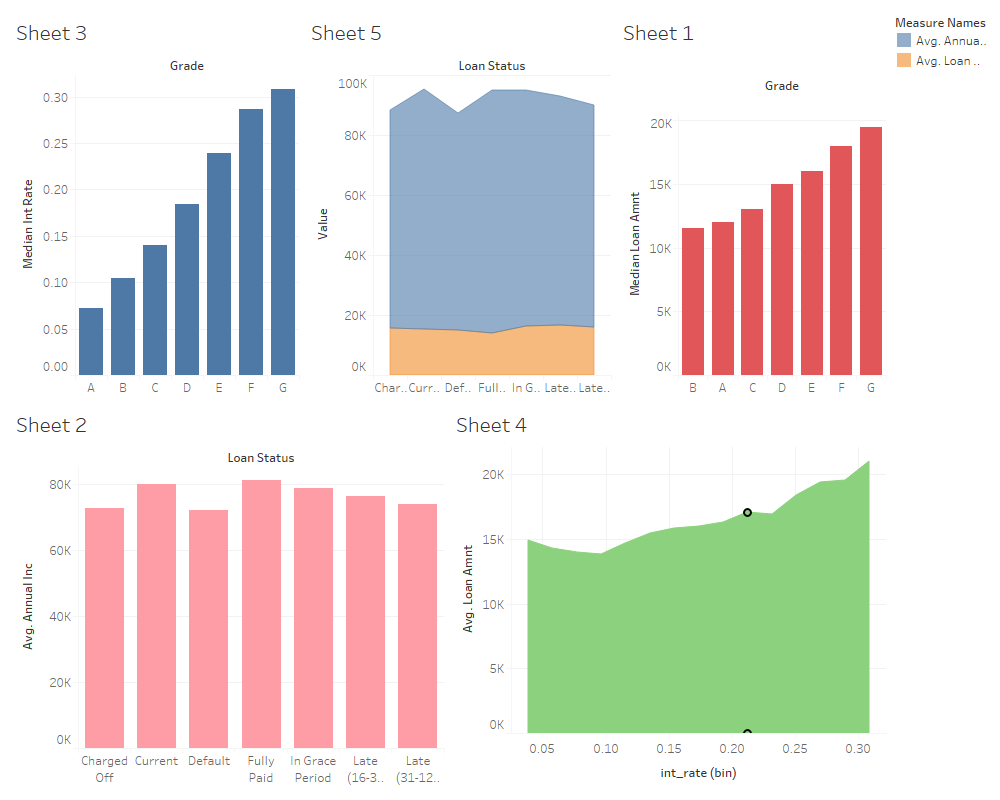

Layout of this report page (visuals, bound fields, positions):
{"tool":"tableau","page":{"name":"Dashboard 1","canvas":[1000,800],"ordinal":0},"visuals":[{"type":"worksheet","title":"Sheet 3","mark":"Automatic","rows":["int_rate"],"cols":["grade"],"box":[8,8,295,392]},{"type":"worksheet","title":"Sheet 5","mark":"Area","cols":["loan_status"],"box":[303,8,312,392]},{"type":"worksheet","title":"Sheet 1","mark":"Automatic","rows":["loan_amnt"],"cols":["grade"],"box":[615,8,275,392]},{"type":"legend","title":"Sheet 5","param":"[federated.1qnn6cs1h5h43x1897zb009lbik7].[:Measure Names]","box":[890,8,102,66]},{"type":"worksheet","title":"Sheet 2","mark":"Automatic","rows":["annual_inc"],"cols":["loan_status"],"box":[8,400,440,392]},{"type":"worksheet","title":"Sheet 4","mark":"Area","rows":["loan_amnt"],"cols":["int_rate (bin)"],"box":[448,400,442,392]}]}

Visuals, with their boxes in screenshot pixels (x1, y1, x2, y2), scaled from the page's 1000x800 canvas onto the 1000x800 screenshot:
"Sheet 3" worksheet: Rect(8, 8, 303, 400)
"Sheet 5" worksheet (Area marks): Rect(303, 8, 615, 400)
"Sheet 1" worksheet: Rect(615, 8, 890, 400)
"Sheet 5" legend: Rect(890, 8, 992, 74)
"Sheet 2" worksheet: Rect(8, 400, 448, 792)
"Sheet 4" worksheet (Area marks): Rect(448, 400, 890, 792)
